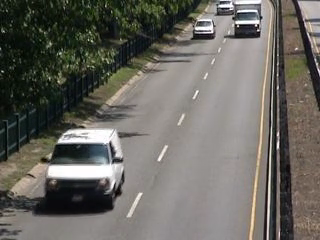car: (193, 18, 217, 41), (216, 1, 234, 17)
truck: (41, 125, 127, 210), (232, 1, 262, 39)
